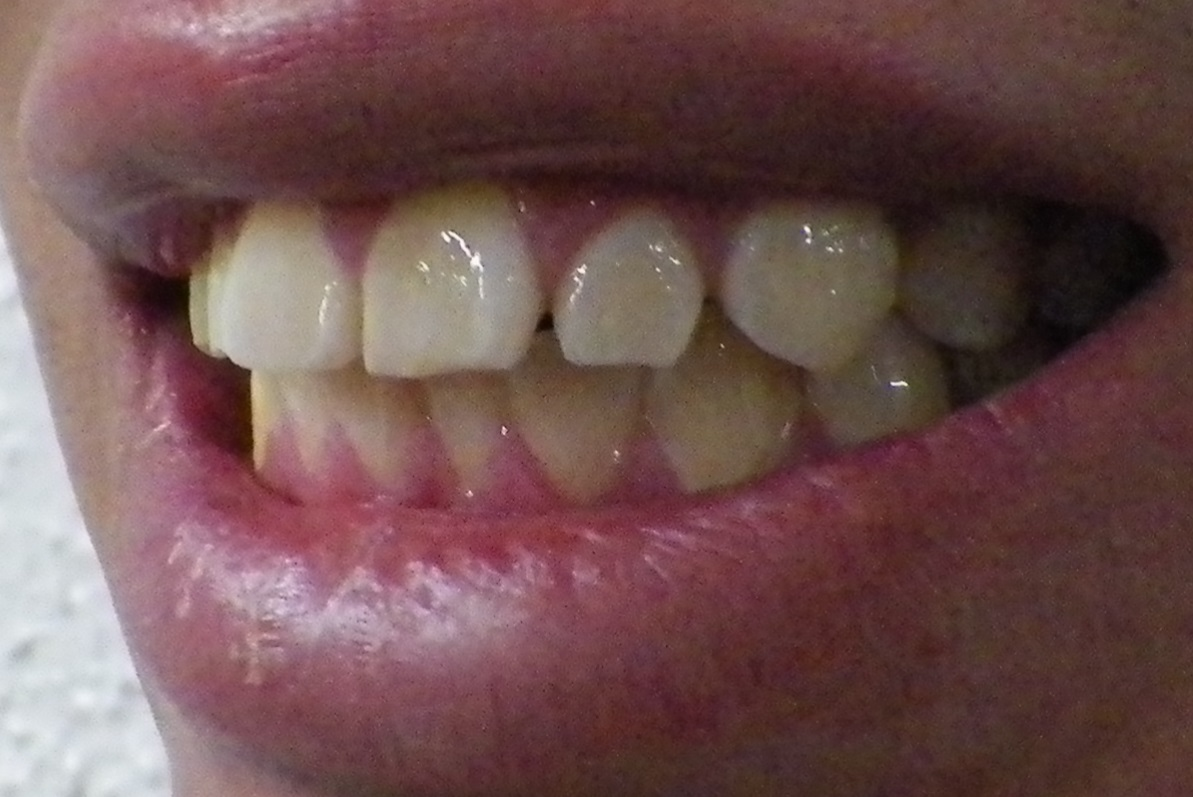boca: (189, 191, 1126, 515)
